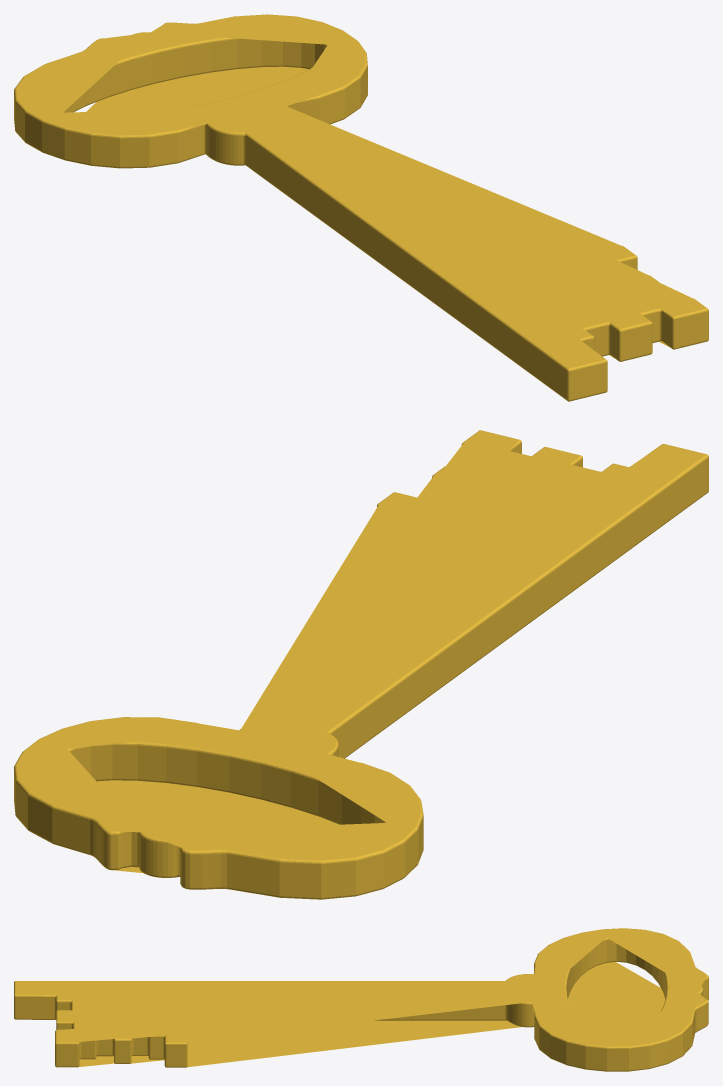
The model's file is Kunci.fbx.
3 renders of one model, top to bottom at view 1: azimuth 30°, elevation 25°; view 2: azimuth 150°, elevation 25°; view 3: azimuth 270°, elevation 25°, orthographic. The views are drawn at different scales.
Visible parts, largest first — view 1: BezierCurve; view 2: BezierCurve; view 3: BezierCurve.
Boxes of the visible parts, x1,y1,x2,y2 form: BezierCurve: [14, 14, 708, 401]; BezierCurve: [14, 430, 708, 899]; BezierCurve: [14, 928, 708, 1071].
Size of the model in its own units: 35.64 by 3.47 by 87.49.
